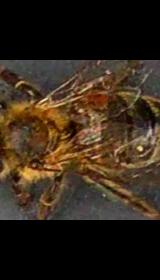varroa_mite: (87, 88, 115, 114)
